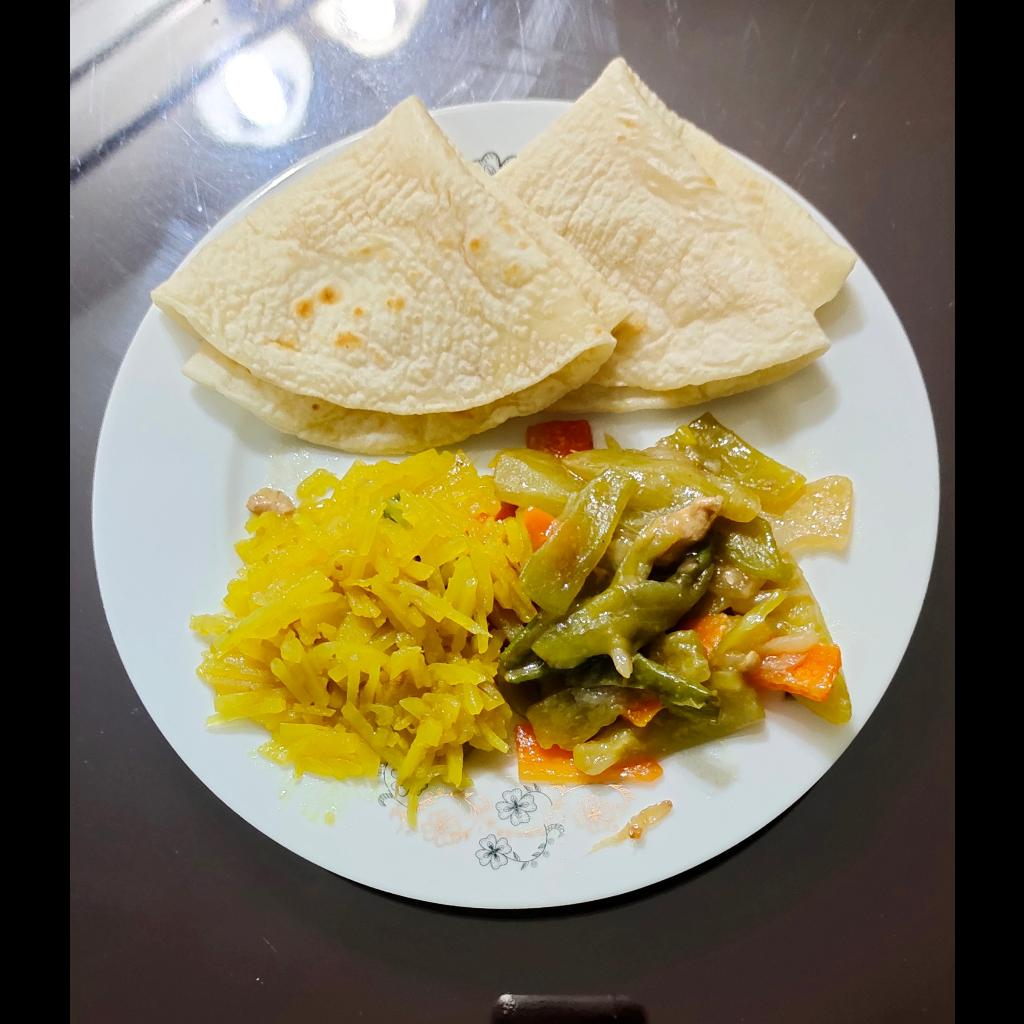dundol: (494, 408, 855, 783)
kumra-vaji: (190, 447, 539, 834)
ruti: (149, 53, 858, 454)
